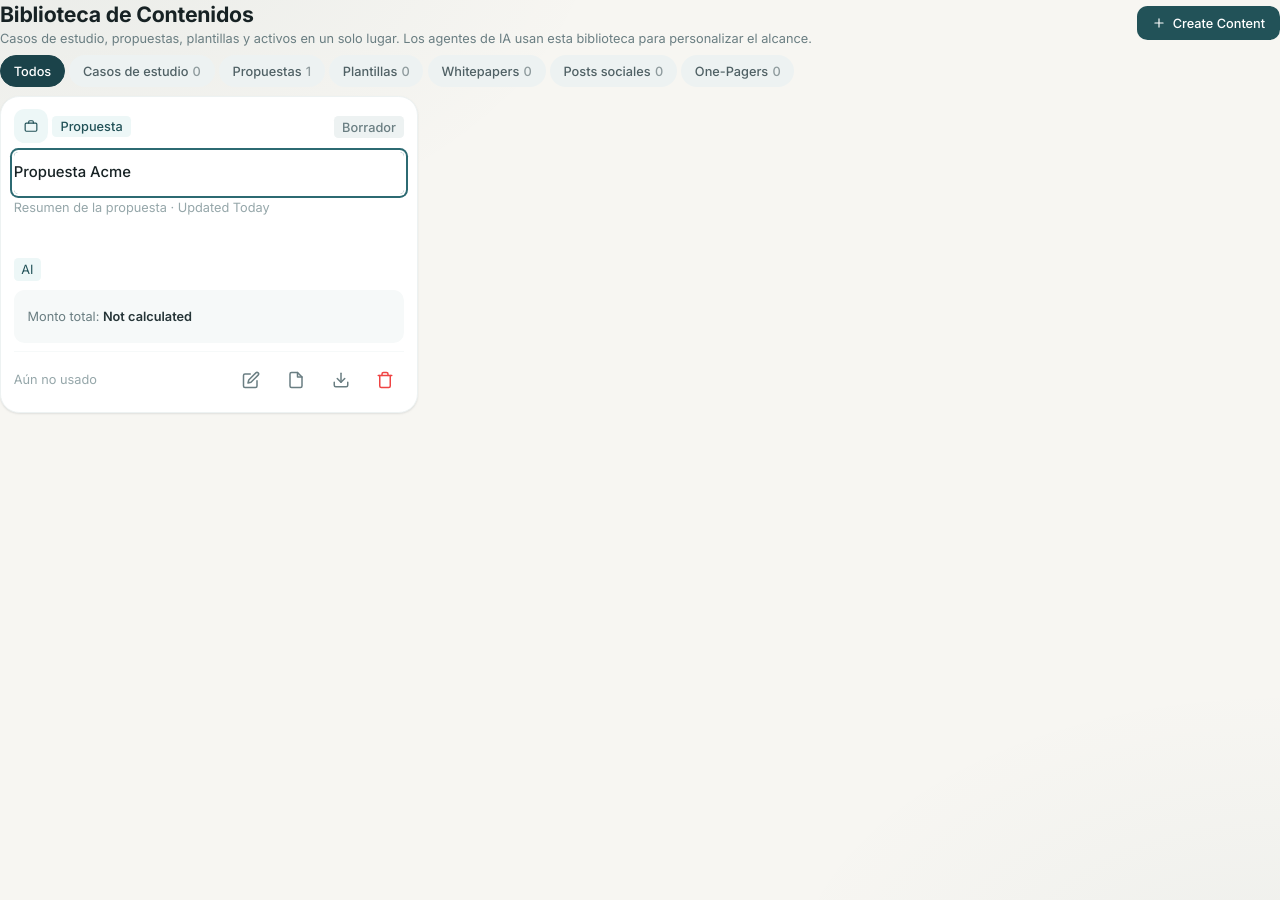
it: ContentLibraryPage: tarjetas › el título es un botón enfocable que abre la vista previa
Click the button "Propuesta Acme" at (72, 172), box [14, 152, 404, 194]
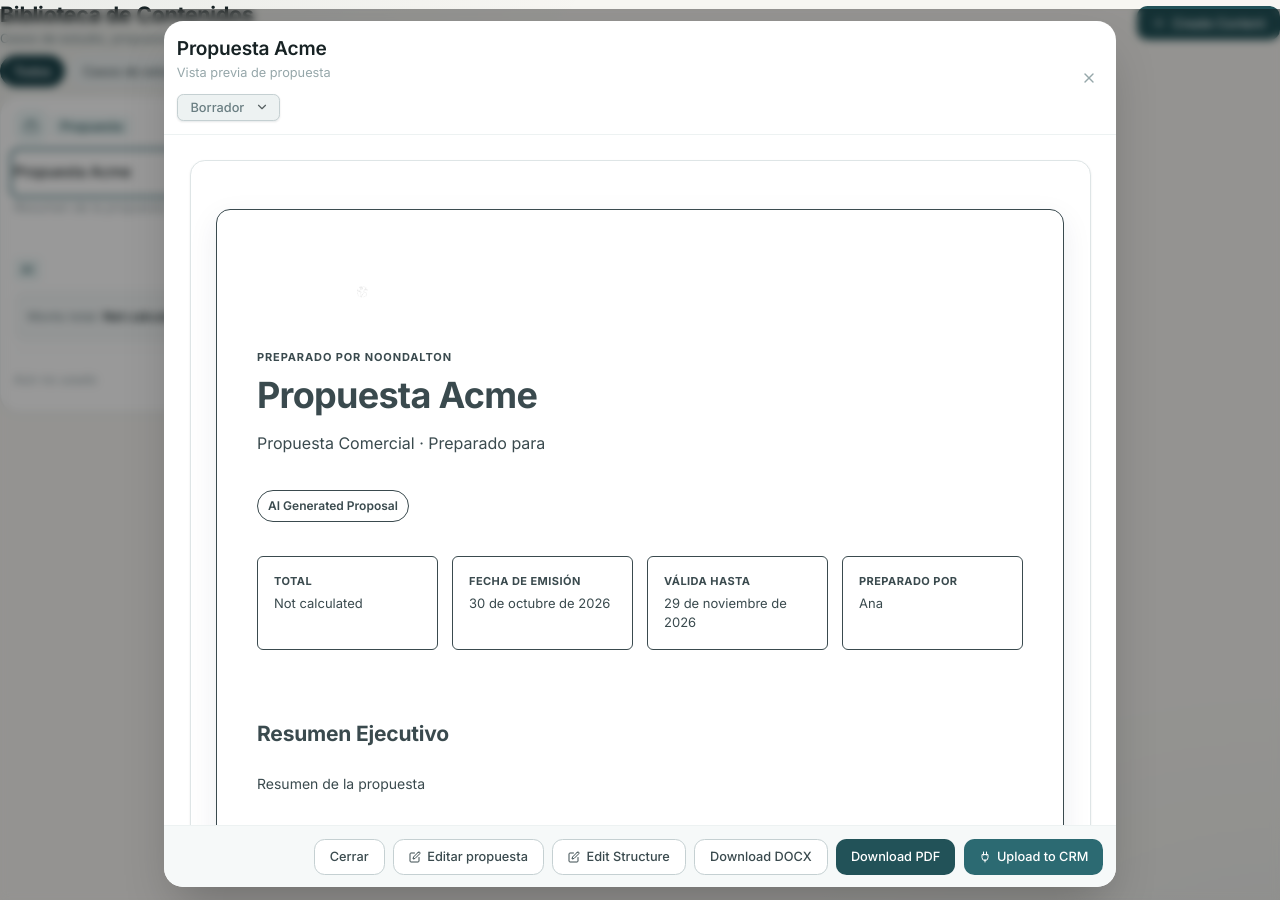
Expected: the element with test id "proposal-status-control" is shown, [177, 94, 280, 121]
